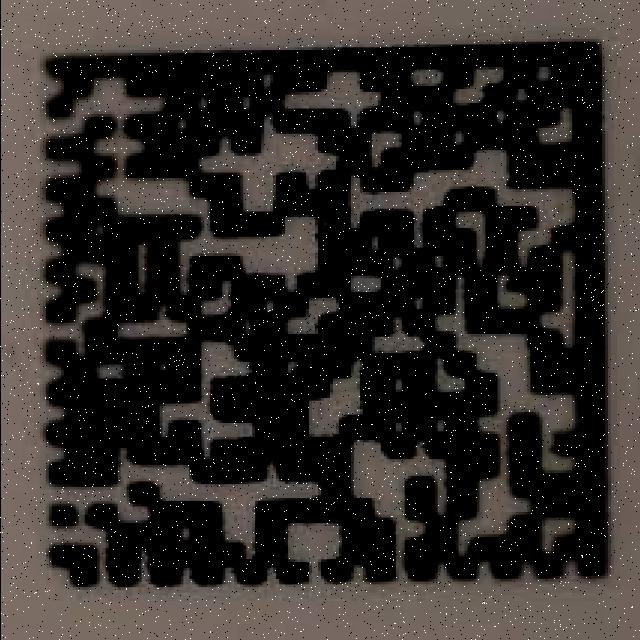datamatrix: (21, 28, 616, 593)
